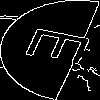E: (24, 25, 100, 70)
